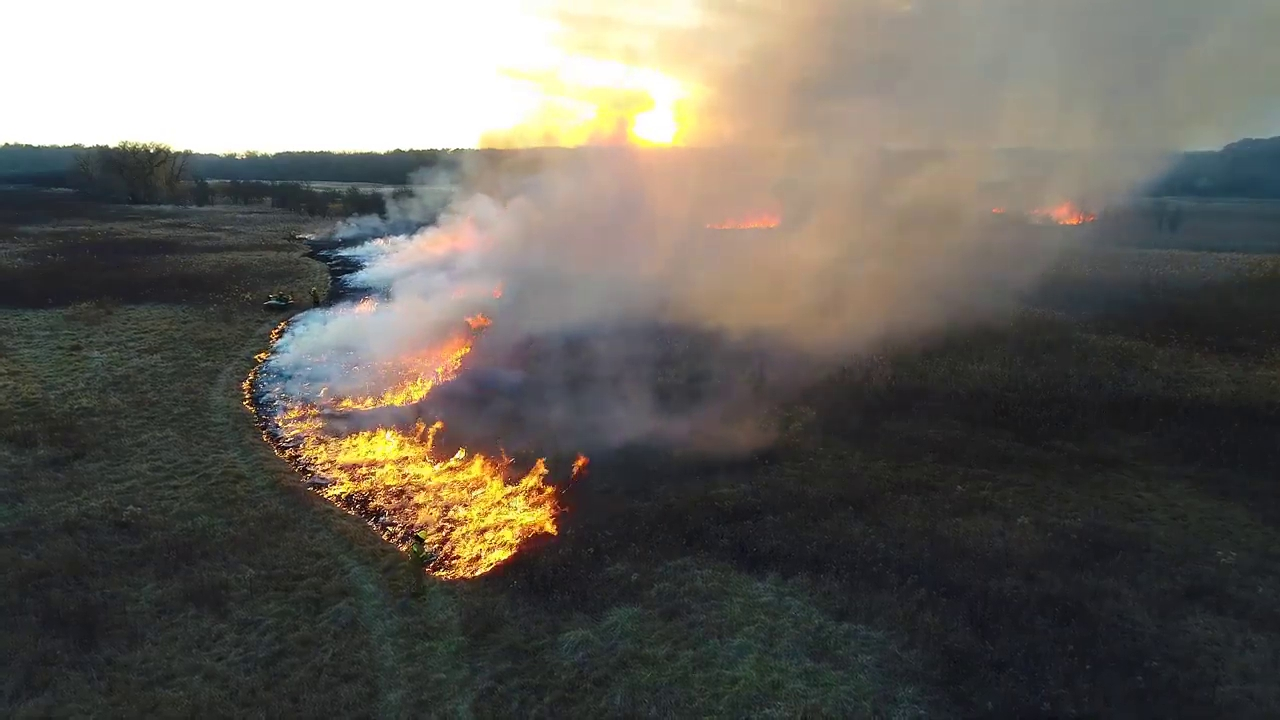forest_fire: (243, 313, 560, 579), (1028, 203, 1095, 225), (707, 213, 781, 229), (325, 297, 377, 314)
